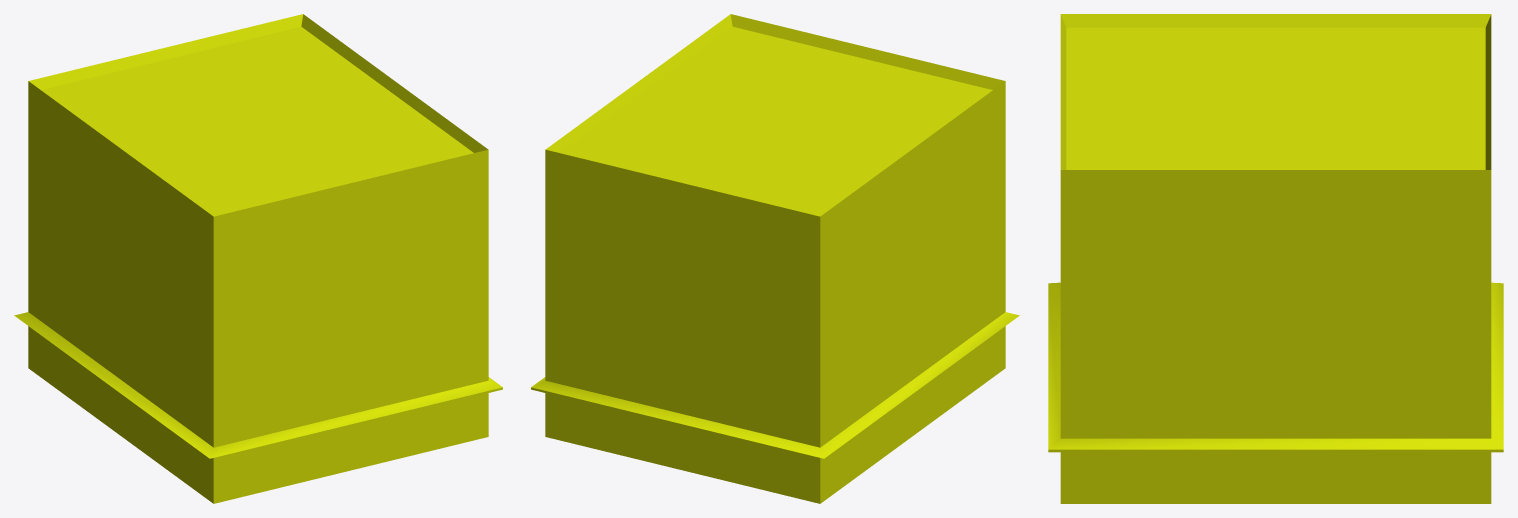
File: cube.151_lev1_lev3.glb
3 renders of one model, left to right at view 1: azimuth 30°, elevation 25°; view 2: azimuth 150°, elevation 25°; view 3: azimuth 270°, elevation 25°, orthographic. The views are drawn at different scales.
Parts seen in each view (by area): view 1: cube.151_lev1_lev3; view 2: cube.151_lev1_lev3; view 3: cube.151_lev1_lev3.
Part boxes in pixels (x1,y1,x2,y2): cube.151_lev1_lev3: (14, 14, 502, 503); cube.151_lev1_lev3: (531, 14, 1019, 503); cube.151_lev1_lev3: (1048, 14, 1503, 503).
Size of the model in its own units: 9.88 by 9.25 by 11.43.
